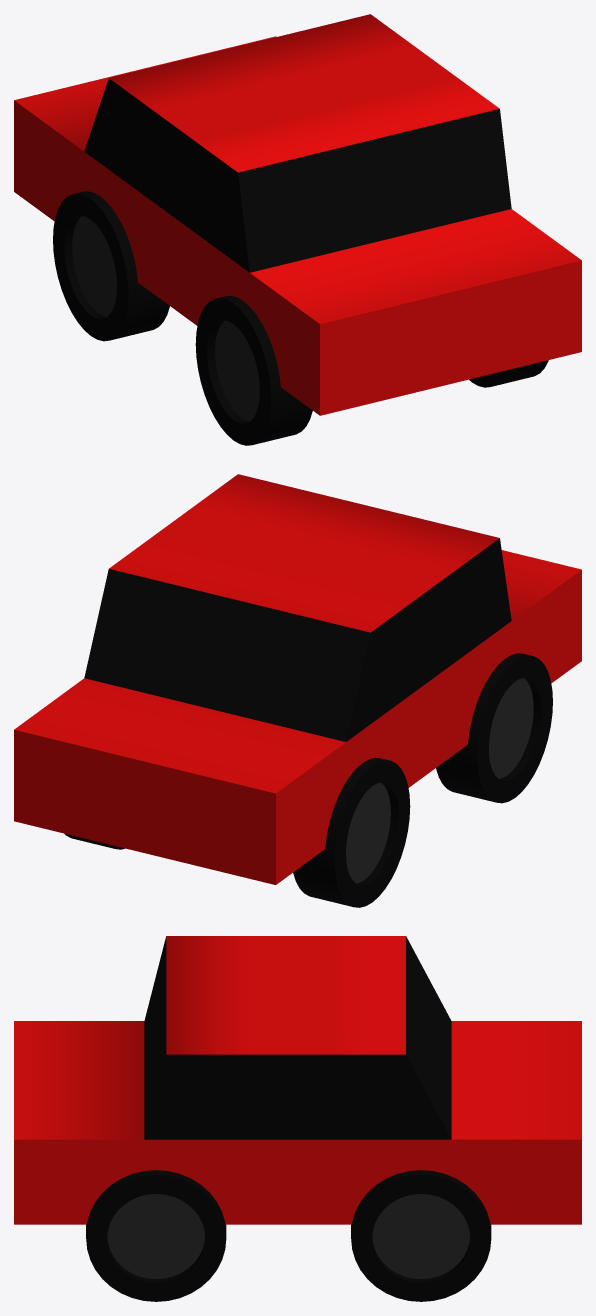
File: auto 1.fbx
The picture shows the model from 3 angles, top to bottom: view 1: azimuth 30°, elevation 25°; view 2: azimuth 150°, elevation 25°; view 3: azimuth 270°, elevation 25°; orthographic projection. The views are drawn at different scales.
Visible parts, largest first — view 1: Cube_1, Cylinder_2, Cylinder_3, Cylinder_1; view 2: Cube_1, Cylinder_2, Cylinder_3; view 3: Cube_1, Cylinder_1, Cylinder.
Boxes of the visible parts, box(x1,y1,x2,y2) form: Cube_1: box(14, 14, 581, 415); Cylinder_2: box(53, 191, 169, 341); Cylinder_3: box(195, 295, 312, 445); Cylinder_1: box(469, 360, 548, 387); Cube_1: box(14, 474, 581, 884); Cylinder_2: box(293, 757, 410, 907); Cylinder_3: box(436, 653, 552, 803); Cube_1: box(14, 936, 581, 1224); Cylinder_1: box(86, 1170, 226, 1301); Cylinder: box(351, 1170, 491, 1301).
Size of the model in its own units: 215 by 191 by 405.
